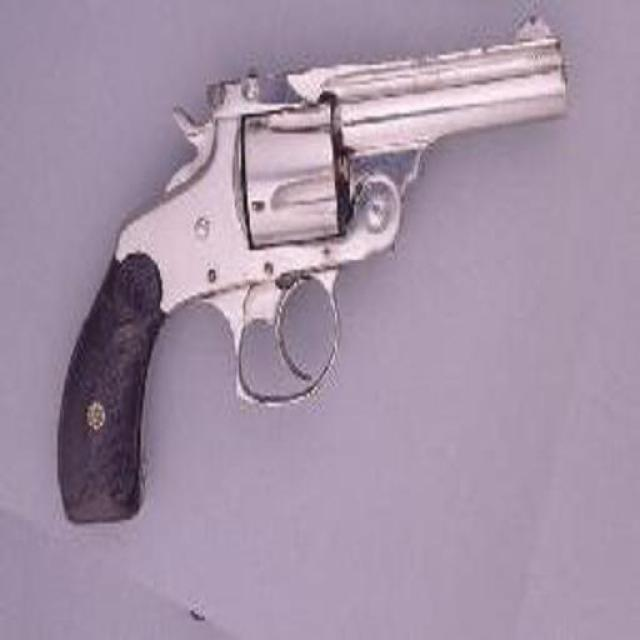pistol: (53, 15, 569, 526)
